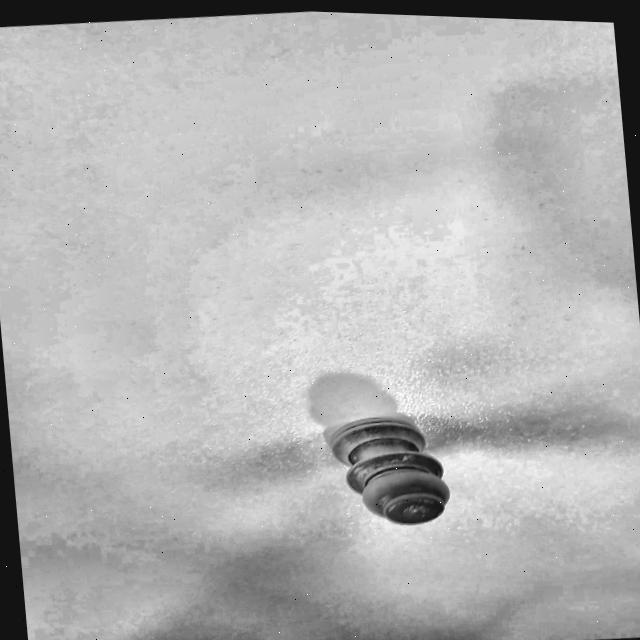black-bishop: (315, 403, 457, 538)
